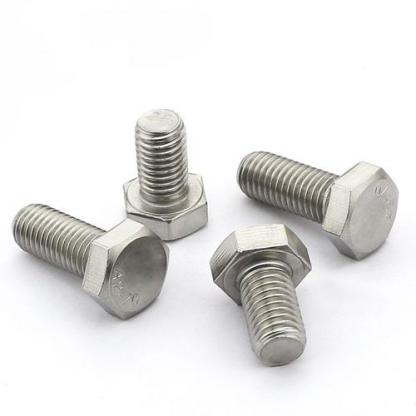FOD: (9, 199, 171, 320), (234, 149, 399, 259), (208, 224, 312, 367), (120, 109, 209, 245)
